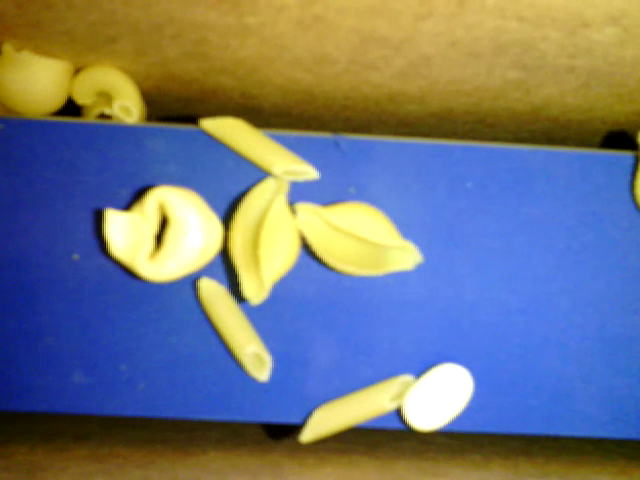elbow: (69, 64, 141, 121)
penne: (198, 115, 320, 182), (297, 374, 413, 443), (197, 275, 272, 381)
shell: (227, 175, 302, 305), (295, 201, 423, 275), (1, 43, 73, 113), (82, 93, 146, 122)
tortellini: (99, 186, 224, 283)
